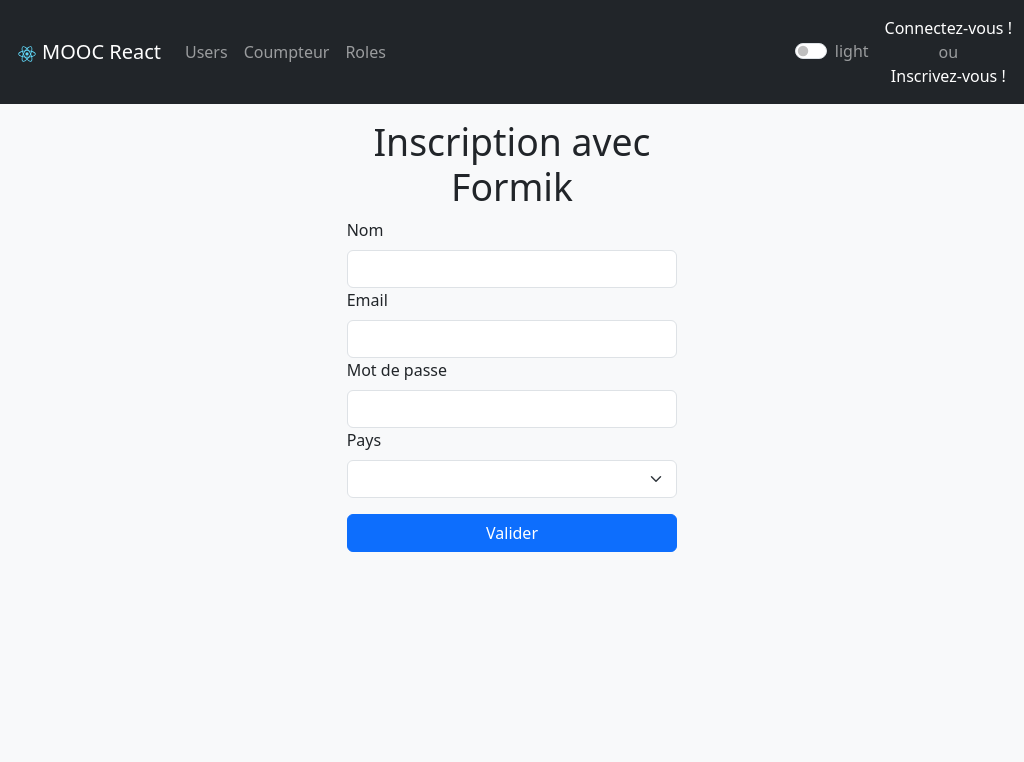
Test: Inscription › deverait afficher une erreur si le nom est trop court
In the field with id "name": (513, 269) [347,250,678,288], type "T"
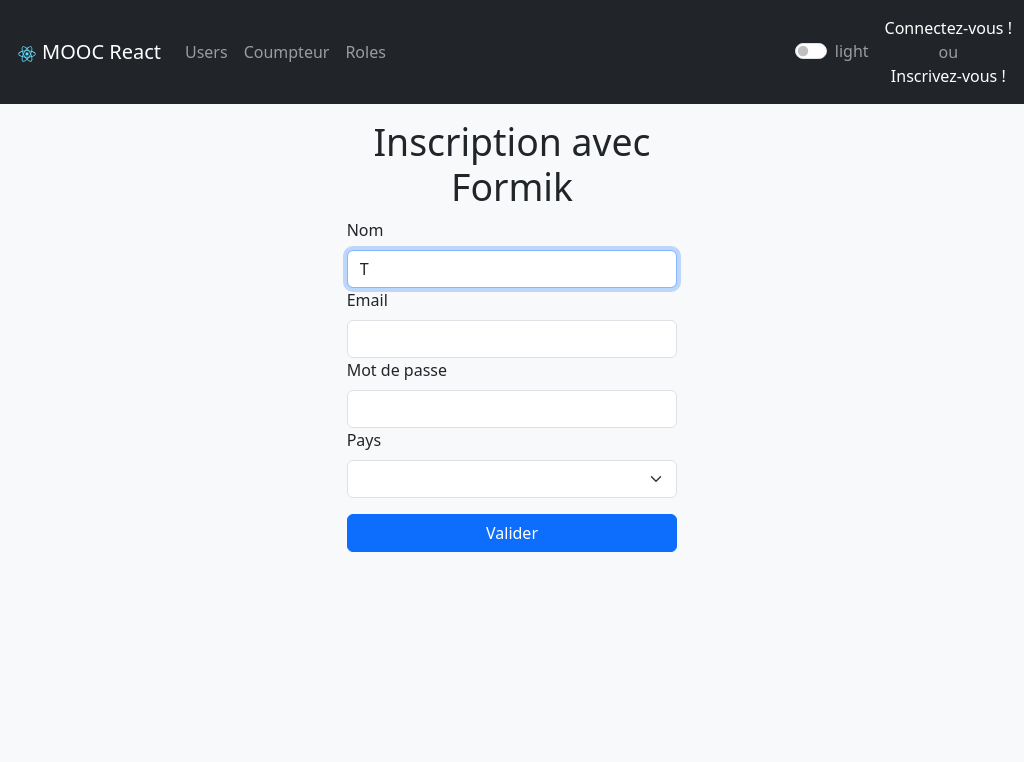
Click the submit button: (513, 533) [347,514,678,552]
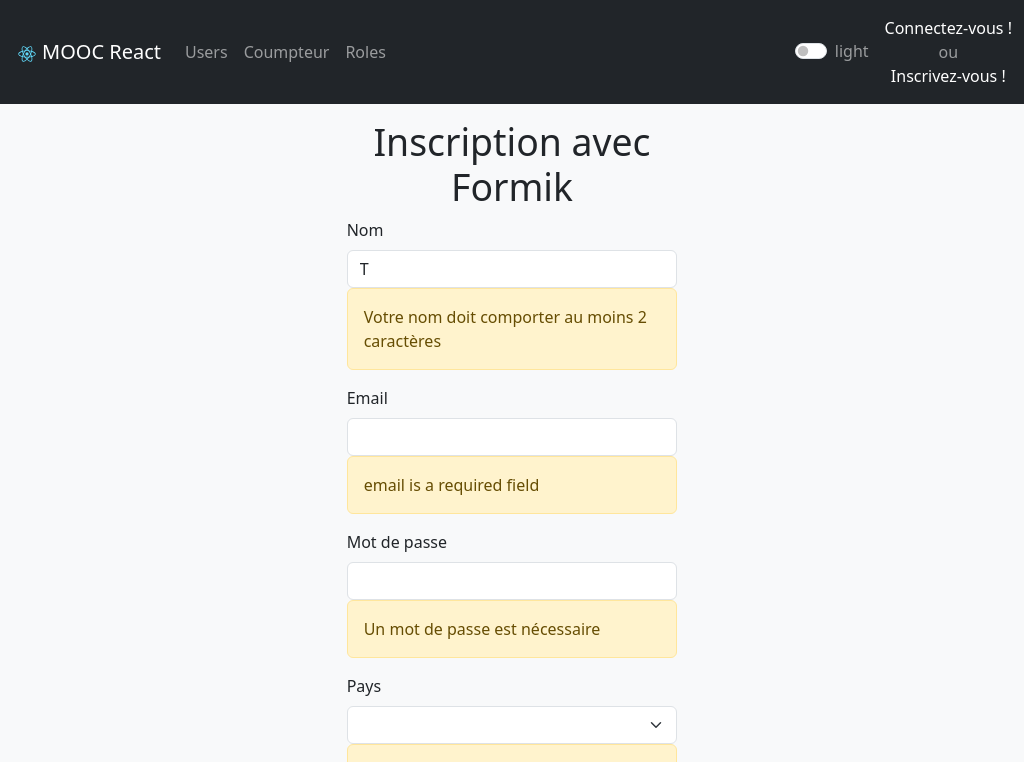
Result: the text with class "alert-warning" reads "Votre nom doit comporter au moins 2 caractères" at [347,288,678,370]
